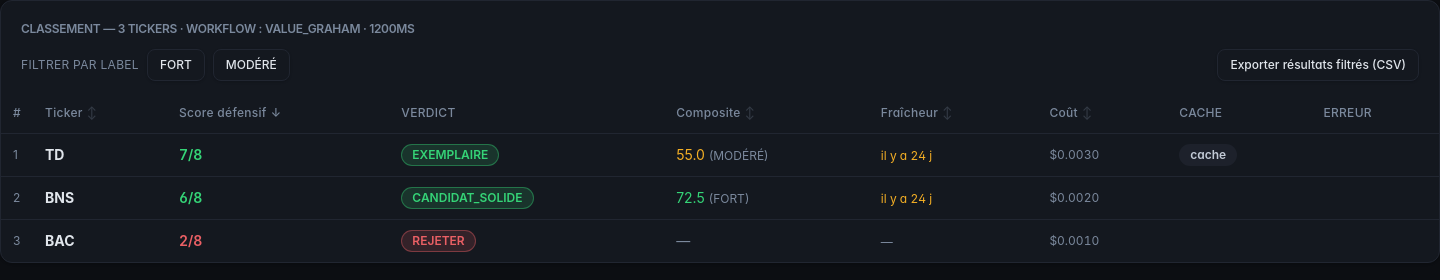
Scenario: ScreenerTable › réinitialise le filtre via le bouton dédié
Click the button with test id "label-filter-FORT": (176, 65) 147,49 -> 205,81
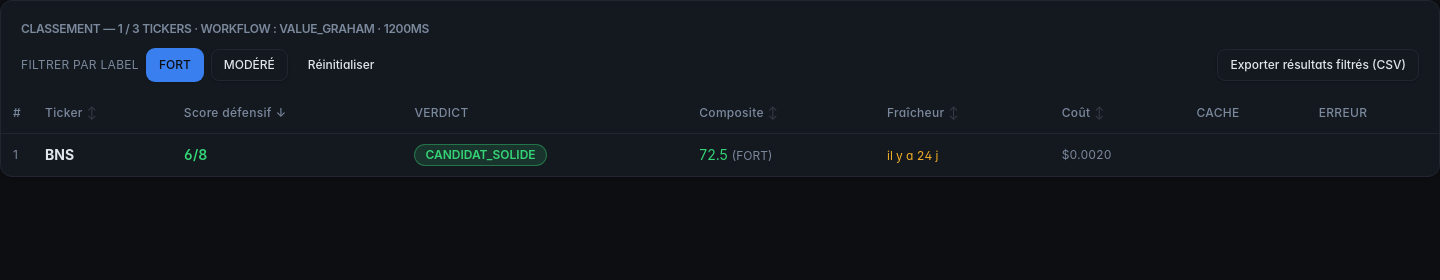
Expected: the text "TD" is gone
Click the button with test id "label-filter-clear": (341, 65) 296,49 -> 386,81
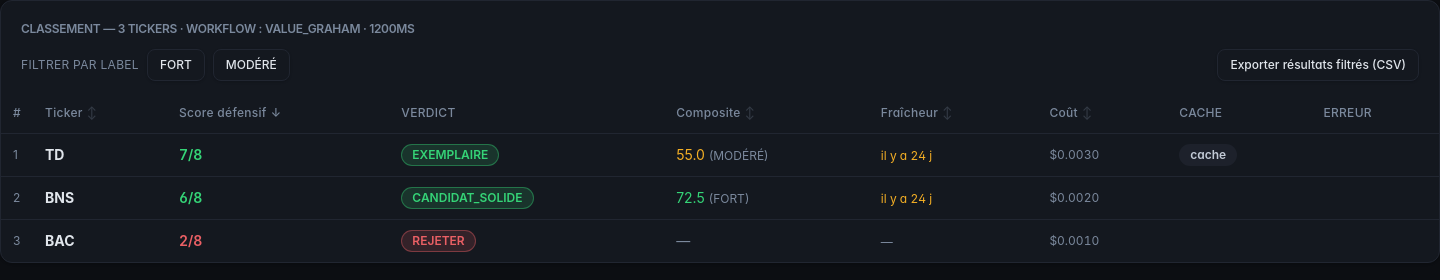
Expected: the text "TD" is shown, 33,134 -> 167,176
